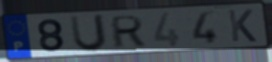4: (152, 11, 183, 48), (190, 10, 221, 46)
8: (36, 18, 67, 53)
K: (226, 8, 258, 43)
R: (111, 14, 147, 51)
U: (68, 13, 108, 54)
